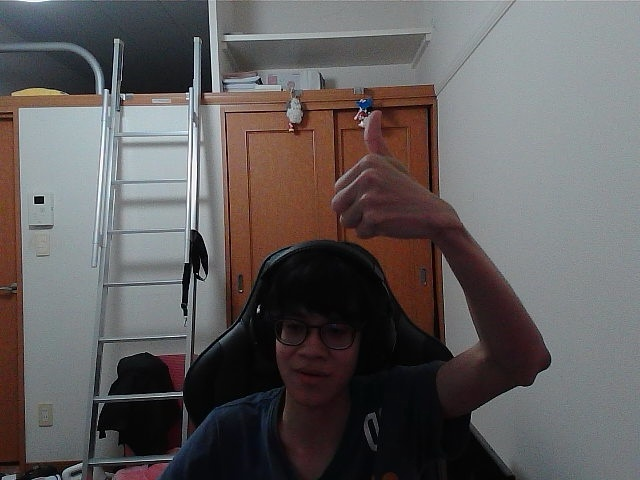thumb_up: (336, 161, 428, 235)
